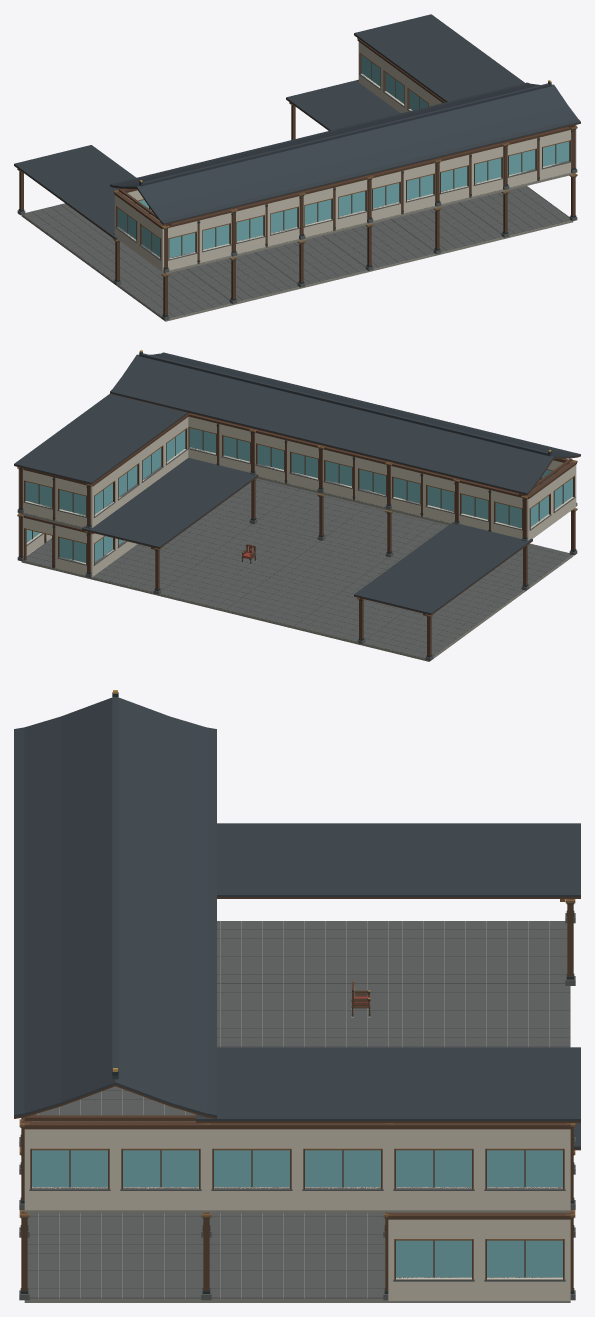
File: visual-far.glb
3 views of the same model, one above another, from view 1: azimuth 30°, elevation 25°; view 2: azimuth 150°, elevation 25°; view 3: azimuth 270°, elevation 25° (orthographic). The views are drawn at different scales.
Parts seen in each view (by area): view 1: 参数墙 · 独立窗玻璃 (×9), 石铺面与混凝土楼板 (×8), 连续屋面 · gable, 连续屋面 · flat (×3); view 2: 石铺面与混凝土楼板 (×16), 参数墙 · 独立窗玻璃 (×11), 连续屋面 · gable, 连续屋面 · flat (×3), 参数墙 · 通行门洞; view 3: 连续屋面 · gable, 石铺面与混凝土楼板 (×9), 参数墙 · 独立窗玻璃 (×4), 连续屋面 · flat (×2).
Part boxes in pixels (<box>): 参数墙 · 独立窗玻璃 (×9): <box>114,38,572,271</box>; 石铺面与混凝土楼板 (×8): <box>21,186,573,321</box>; 连续屋面 · gable: <box>110,80,580,225</box>; 连续屋面 · flat (×3): <box>14,14,524,239</box>; 石铺面与混凝土楼板 (×16): <box>21,479,573,661</box>; 参数墙 · 独立窗玻璃 (×11): <box>18,413,576,577</box>; 连续屋面 · gable: <box>110,350,580,495</box>; 连续屋面 · flat (×3): <box>14,393,532,615</box>; 参数墙 · 通行门洞: <box>23,515,87,575</box>; 连续屋面 · gable: <box>14,690,216,1121</box>; 石铺面与混凝土楼板 (×9): <box>24,921,570,1302</box>; 参数墙 · 独立窗玻璃 (×4): <box>24,1121,570,1300</box>; 连续屋面 · flat (×2): <box>196,823,580,1122</box>.
Bounding box in the file's own units: 34.8 × 9.88 × 21.6.
Materials: 15 (15 with a texture image).
